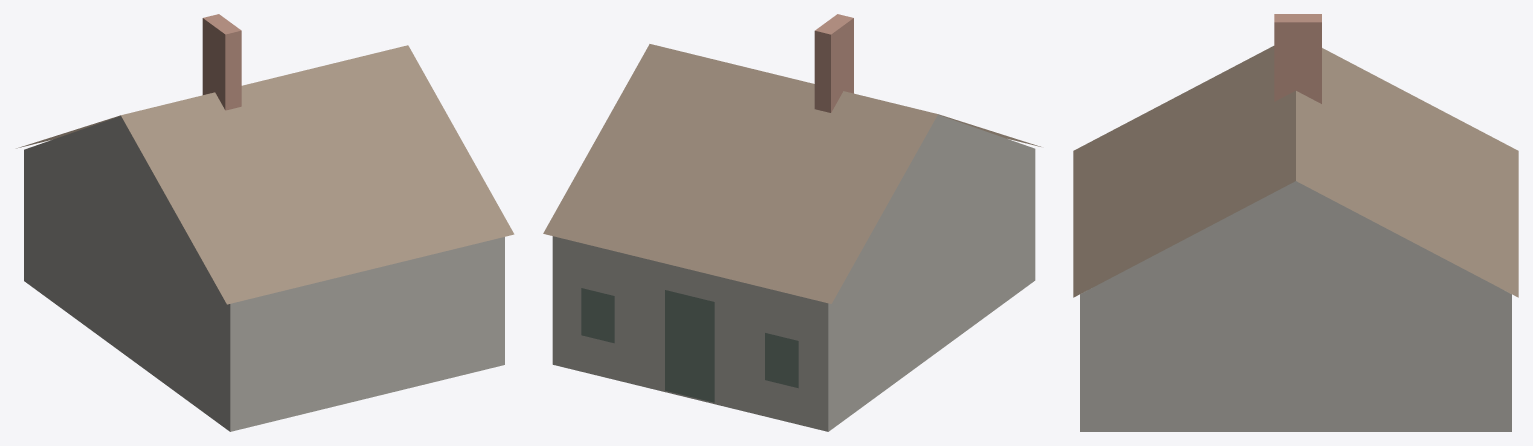
Rendered from recon_1835_north_d4_004__recommended_1835.glb.
3 renders of one model, left to right at view 1: azimuth 30°, elevation 25°; view 2: azimuth 150°, elevation 25°; view 3: azimuth 270°, elevation 25°, orthographic. The views are drawn at different scales.
Visible parts, largest first — view 1: recon_1835_north_d4_004__recommended_1835; view 2: recon_1835_north_d4_004__recommended_1835; view 3: recon_1835_north_d4_004__recommended_1835.
Boxes of the visible parts, x1,y1,x2,y2 form: recon_1835_north_d4_004__recommended_1835: (16, 14, 514, 431); recon_1835_north_d4_004__recommended_1835: (543, 14, 1040, 431); recon_1835_north_d4_004__recommended_1835: (1073, 14, 1518, 431).
Bounding box in the file's own units: 6.38 × 6.53 × 8.17.
